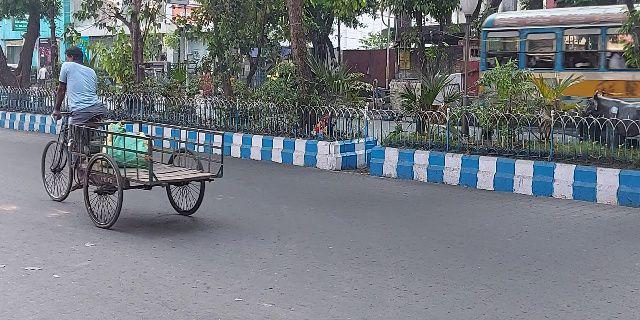Van: (31, 46, 227, 229)
